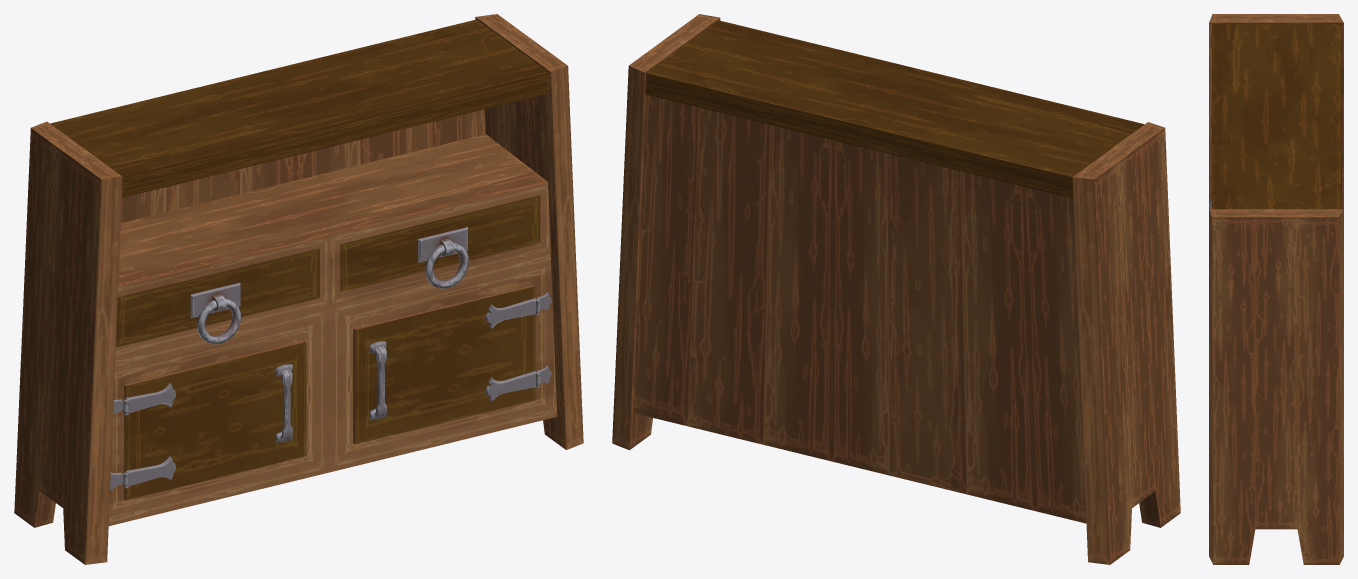
The model's file is Cabinet.glb.
3 renders of one model, left to right at view 1: azimuth 30°, elevation 25°; view 2: azimuth 150°, elevation 25°; view 3: azimuth 270°, elevation 25°, orthographic. The views are drawn at different scales.
Visible parts, largest first — view 1: Cabinet; view 2: Cabinet; view 3: Cabinet.
Boxes of the visible parts, bbox=[...] form: Cabinet: bbox=[14, 14, 583, 564]; Cabinet: bbox=[612, 14, 1180, 564]; Cabinet: bbox=[1209, 14, 1343, 564].
Size of the model in its own units: 1.36 by 0.9974 by 0.3571.
2 materials, 2 textured.
